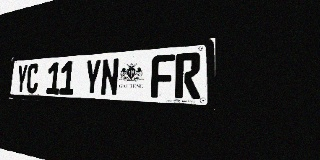1: (59, 61, 75, 95), (46, 62, 61, 94)
C: (26, 63, 39, 94)
F: (151, 54, 175, 98)
N: (100, 58, 119, 96)
R: (175, 52, 201, 99)
Y: (84, 59, 102, 96), (15, 64, 28, 93)
